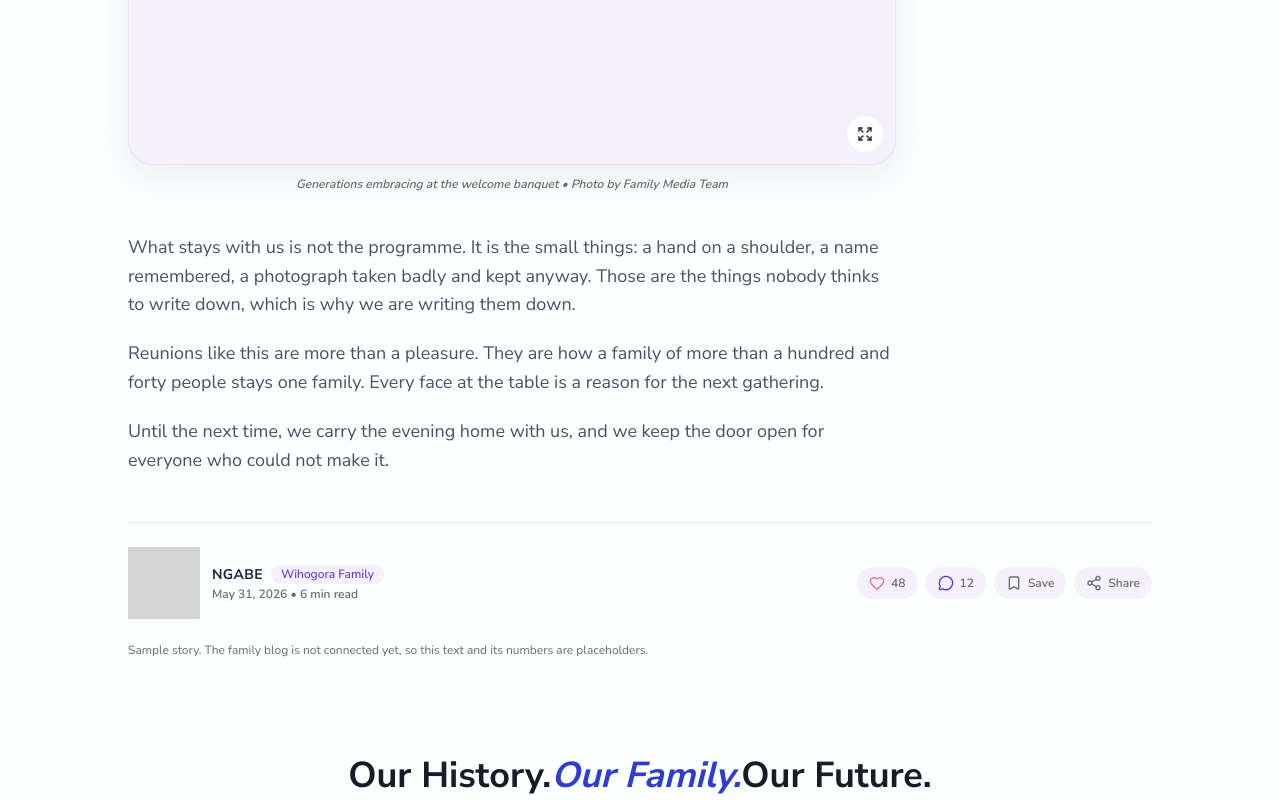
ArticleDetailView › likes and unlikes, and keeps the count honest
(page scrolled)
What coordinates should you click on to do the following:
click the button named "Like this story"
I would click on:
 (887, 583)
Its box is left=857, top=567, right=918, bottom=599.
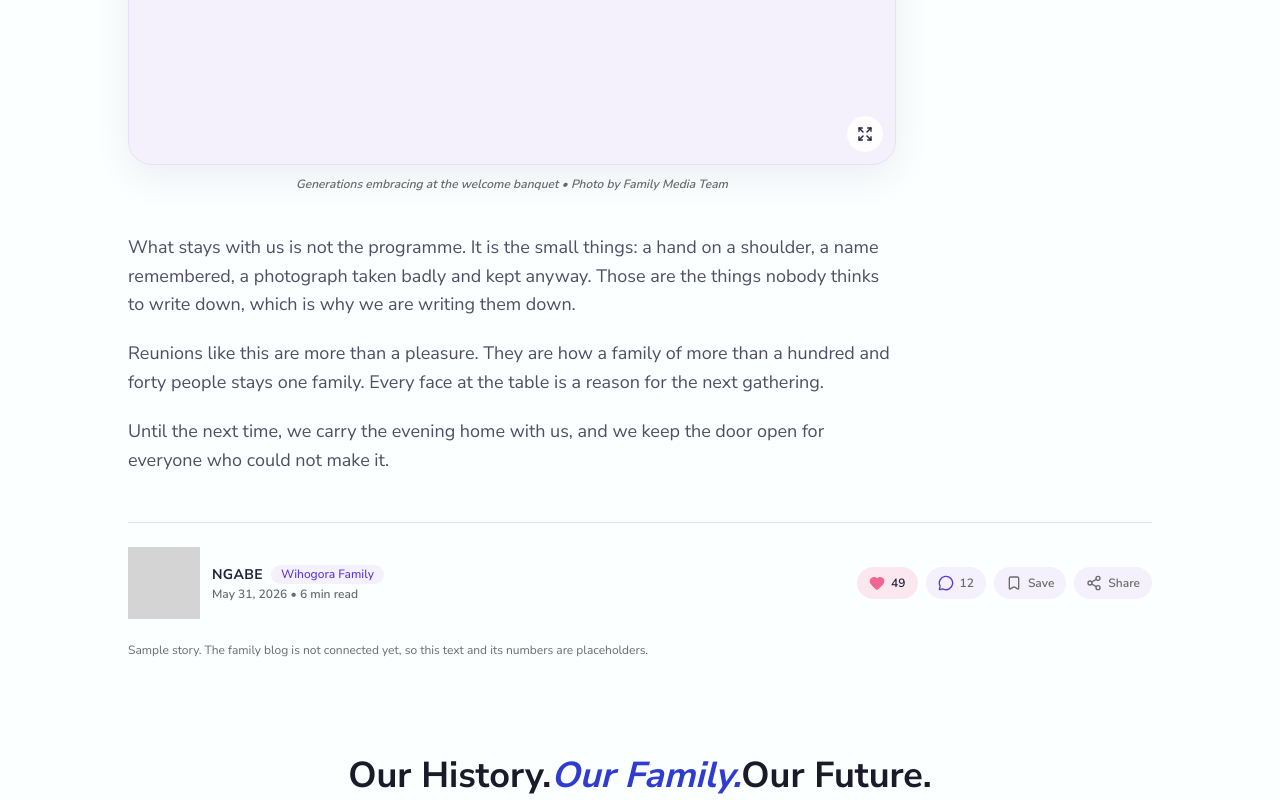
Now the button named "Like this story" reads "49"
What coordinates should you click on to do the following:
click the button named "Like this story"
I would click on:
 (887, 583)
Its box is left=857, top=567, right=918, bottom=599.
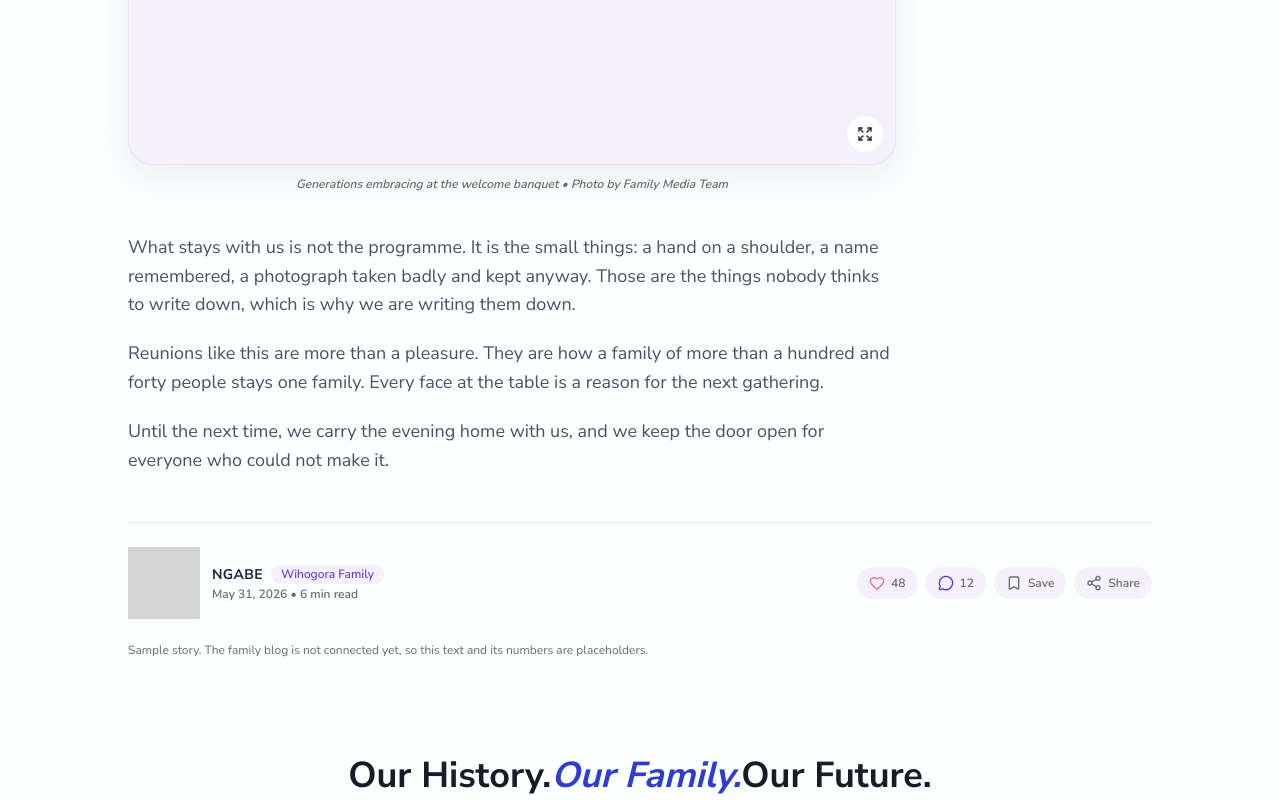
Now the button named "Like this story" reads "48", box left=857, top=567, right=918, bottom=599
